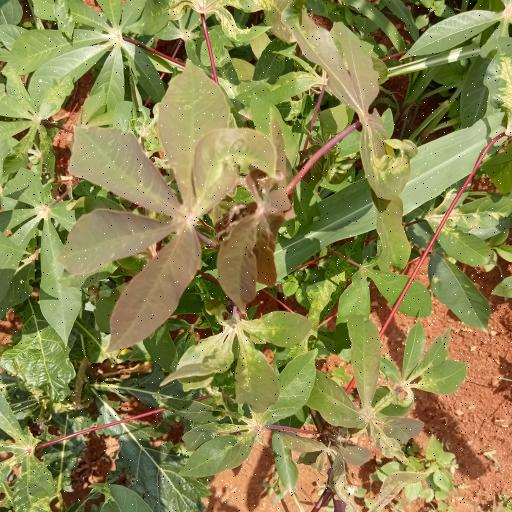Cassava_Healthy: (64, 51, 247, 343)
